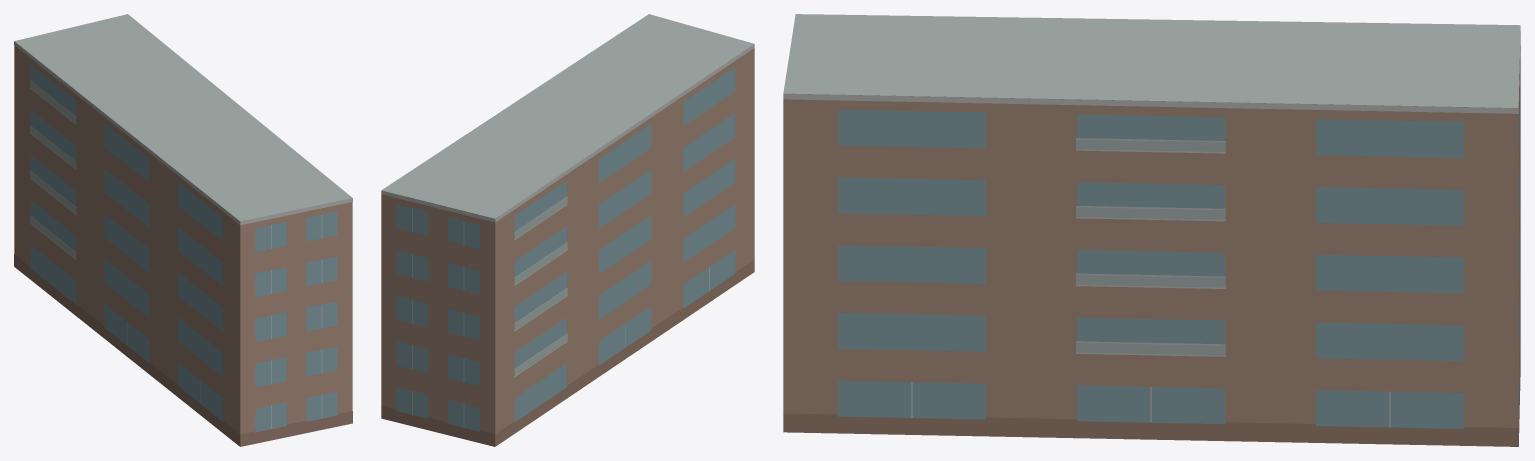
Rendered from survey-upis-32499335.glb.
The picture shows the model from 3 angles, left to right: view 1: azimuth 30°, elevation 25°; view 2: azimuth 150°, elevation 25°; view 3: azimuth 270°, elevation 25°; orthographic projection. The views are drawn at different scales.
Parts seen in each view (by area): view 1: survey-upis-32499335.tmp; view 2: survey-upis-32499335.tmp; view 3: survey-upis-32499335.tmp.
Part boxes in pixels (x1,y1,x2,y2): survey-upis-32499335.tmp: (14, 14, 352, 446); survey-upis-32499335.tmp: (381, 14, 754, 446); survey-upis-32499335.tmp: (783, 14, 1520, 446).
Bounding box in the file's own units: 8.46 × 14.19 × 28.
